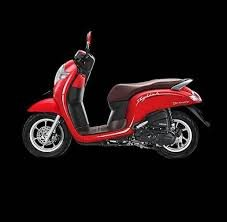motor: (26, 32, 209, 156)
